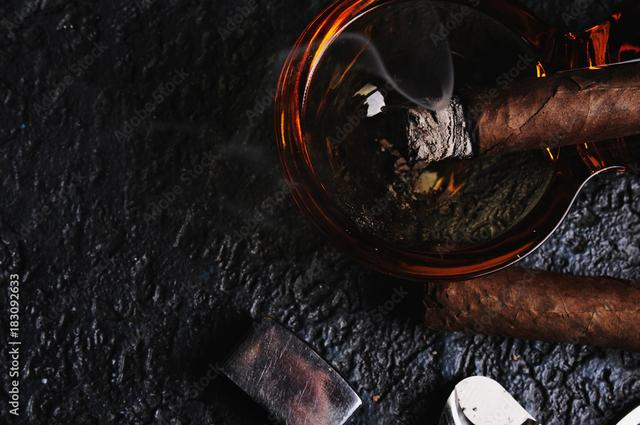Cigar: (372, 49, 640, 171), (420, 264, 639, 355)
